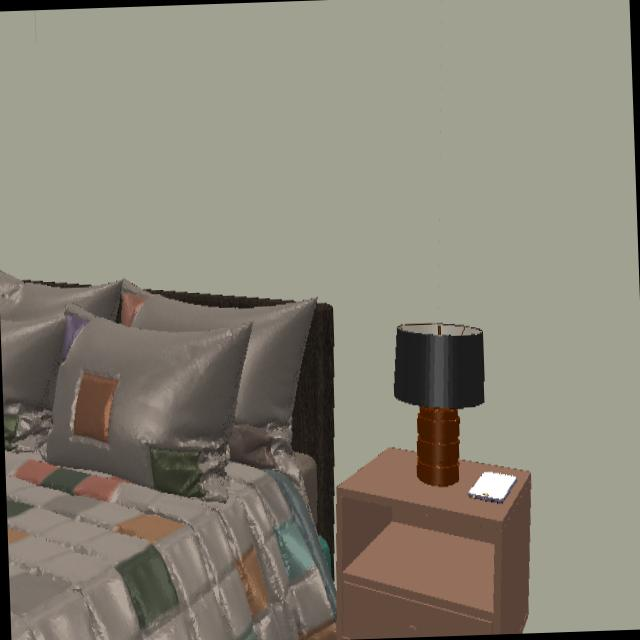bed: (4, 454, 333, 640)
lamp: (394, 325, 483, 486)
nighttable: (336, 448, 529, 638)
pillow: (0, 274, 314, 499)
